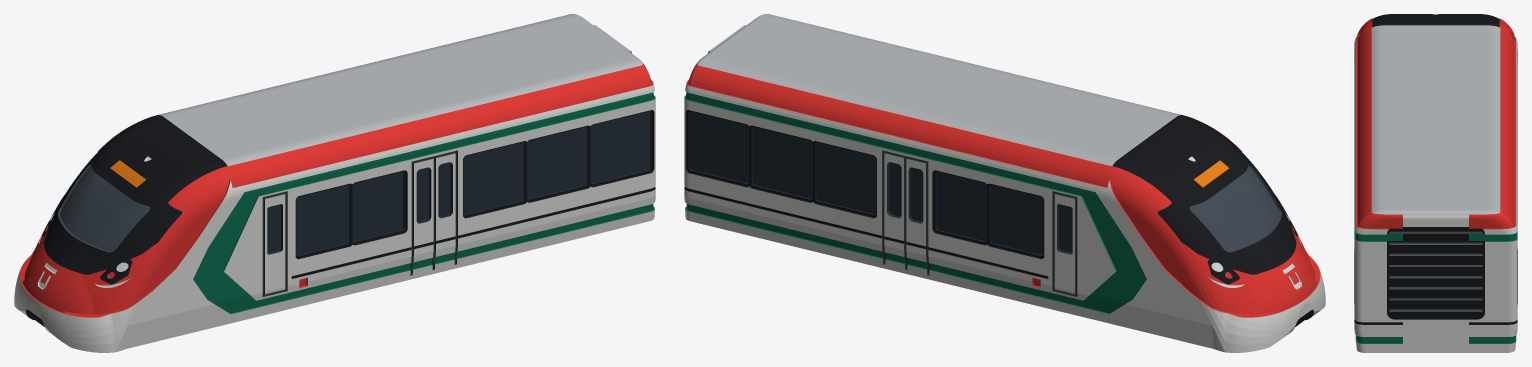
The model's file is insurgente.glb.
The picture shows the model from 3 angles, left to right: view 1: azimuth 30°, elevation 25°; view 2: azimuth 150°, elevation 25°; view 3: azimuth 270°, elevation 25°; orthographic projection. The views are drawn at different scales.
Visible parts, largest first — view 1: ttm_insurgente; view 2: ttm_insurgente; view 3: ttm_insurgente.
Part boxes in pixels (bbox=[...]): ttm_insurgente: bbox=[14, 14, 655, 352]; ttm_insurgente: bbox=[684, 14, 1325, 352]; ttm_insurgente: bbox=[1354, 14, 1517, 352].
Size of the model in its own units: 150 by 37.6 by 40.
